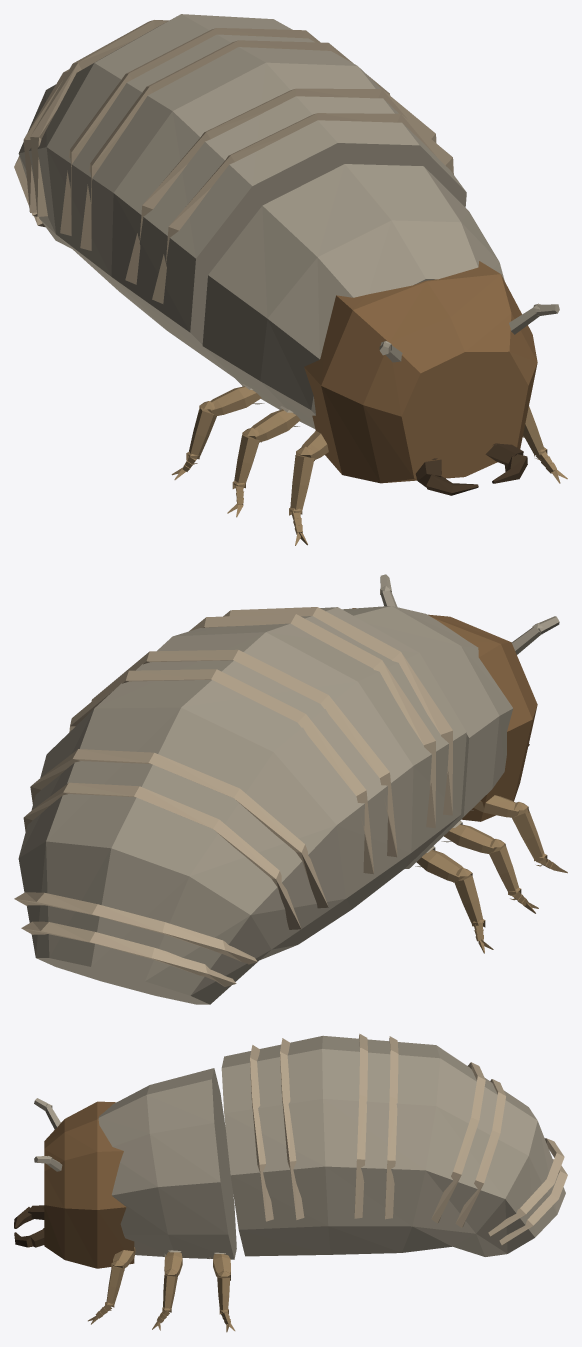
The model's file is larva.glb.
3 renders of one model, top to bottom at view 1: azimuth 30°, elevation 25°; view 2: azimuth 150°, elevation 25°; view 3: azimuth 270°, elevation 25°, orthographic. The views are drawn at different scales.
Visible parts, largest first — view 1: BeetleBodyInner, ThoraxCore, larva_capsule, larva_fold, Tibia001, Femur003, Femur005, Tibia005, Tibia003; view 2: BeetleBodyInner, larva_fold, ThoraxCore, larva_capsule, Femur003, Femur005, Tibia001, Tibia005, Tibia003, Femur001; view 3: BeetleBodyInner, ThoraxCore, larva_fold, larva_capsule, Tibia000, Tibia002, Tibia004.
Part boxes in pixels (left/top/right/bottom): BeetleBodyInner: left=18, top=14, right=466, bottom=377; ThoraxCore: left=202, top=164, right=504, bottom=428; larva_capsule: left=304, top=261, right=537, bottom=483; larva_fold: left=14, top=20, right=453, bottom=303; Tibia001: left=290, top=455, right=314, bottom=513; Femur003: left=249, top=409, right=300, bottom=442; Femur005: left=207, top=386, right=261, bottom=416; Tibia005: left=188, top=407, right=216, bottom=459; Tibia003: left=233, top=435, right=259, bottom=487; BeetleBodyInner: left=18, top=607, right=466, bottom=1004; larva_fold: left=14, top=607, right=452, bottom=986; ThoraxCore: left=342, top=606, right=513, bottom=868; larva_capsule: left=352, top=608, right=537, bottom=821; Femur003: left=444, top=824, right=496, bottom=853; Femur005: left=416, top=849, right=464, bottom=882; Tibia001: left=512, top=808, right=544, bottom=862; Tibia005: left=454, top=875, right=483, bottom=926; Tibia003: left=489, top=845, right=519, bottom=895; Femur001: left=473, top=795, right=519, bottom=817; BeetleBodyInner: left=221, top=1035, right=565, bottom=1256; ThoraxCore: left=98, top=1068, right=236, bottom=1259; larva_fold: left=250, top=1033, right=567, bottom=1245; larva_capsule: left=44, top=1101, right=134, bottom=1268; Tibia000: left=106, top=1265, right=124, bottom=1306; Tibia002: left=163, top=1275, right=177, bottom=1311; Tibia004: left=217, top=1277, right=230, bottom=1312.
Bounding box in the file's own units: 1.26 × 1.25 × 2.7.
